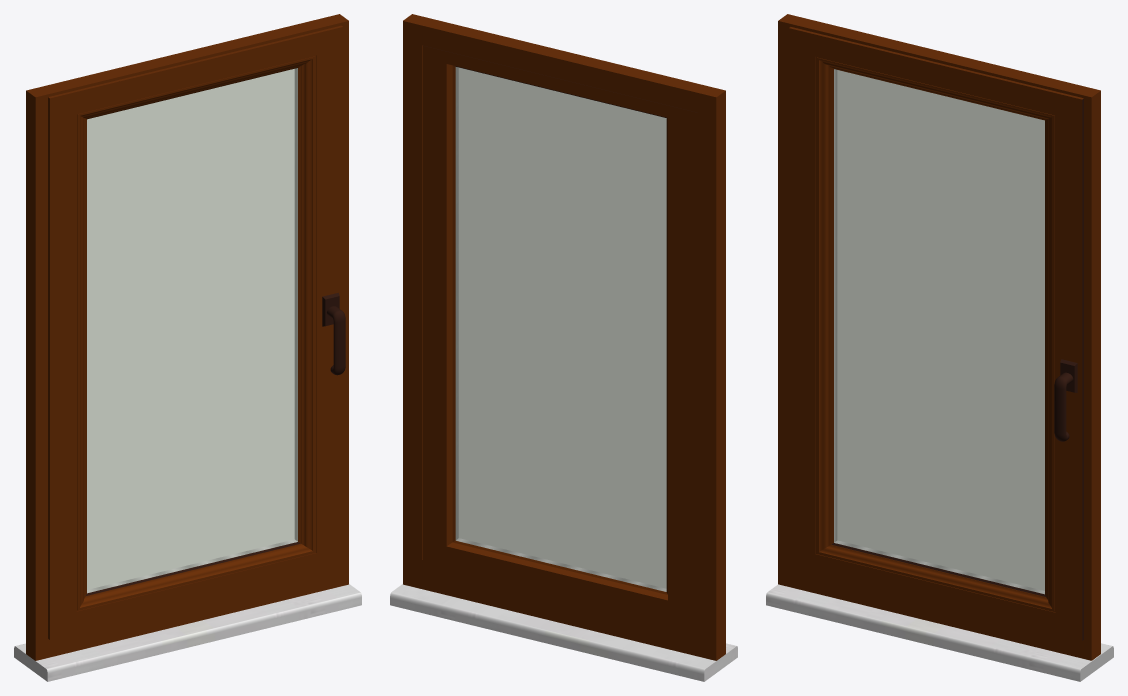
Rendered from window_3.glb.
The picture shows the model from 3 angles, left to right: view 1: azimuth 30°, elevation 25°; view 2: azimuth 150°, elevation 25°; view 3: azimuth 330°, elevation 25°; orthographic projection.
Parts seen in each view (by area): view 1: root; view 2: root; view 3: root.
Boxes of the visible parts, left/top/right/bottom form: root: left=14, top=14, right=361, bottom=681; root: left=390, top=14, right=737, bottom=681; root: left=766, top=14, right=1113, bottom=681.
Bounding box in the file's own units: 0.8 × 1.4 × 0.15.
Materials: 6 (2 with a texture image).
